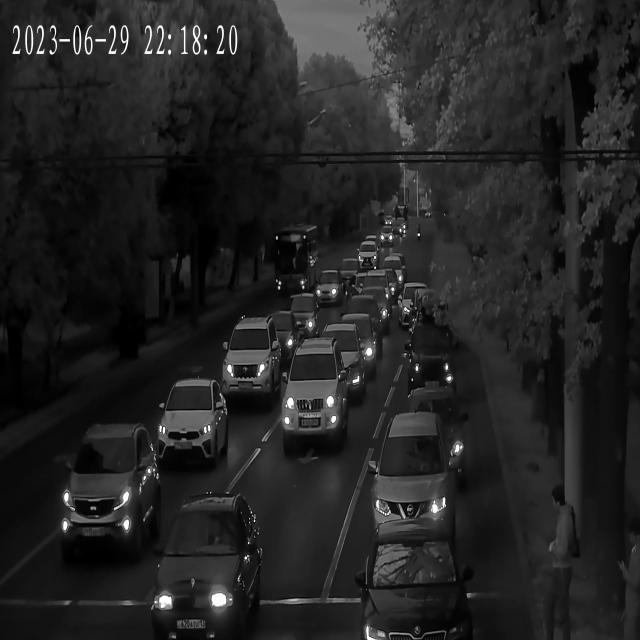Bus: (266, 224, 318, 294)
Car: (150, 496, 262, 640), (57, 425, 157, 560), (364, 418, 460, 554), (364, 545, 482, 640), (377, 398, 467, 491), (276, 343, 350, 448), (152, 381, 232, 471), (216, 319, 282, 406), (293, 339, 367, 402), (320, 326, 371, 384), (404, 388, 460, 436), (256, 317, 302, 364), (342, 298, 386, 342), (351, 271, 396, 309), (283, 296, 323, 336), (313, 270, 348, 306), (374, 258, 405, 292), (339, 258, 370, 284), (356, 242, 378, 265), (378, 231, 394, 246)
